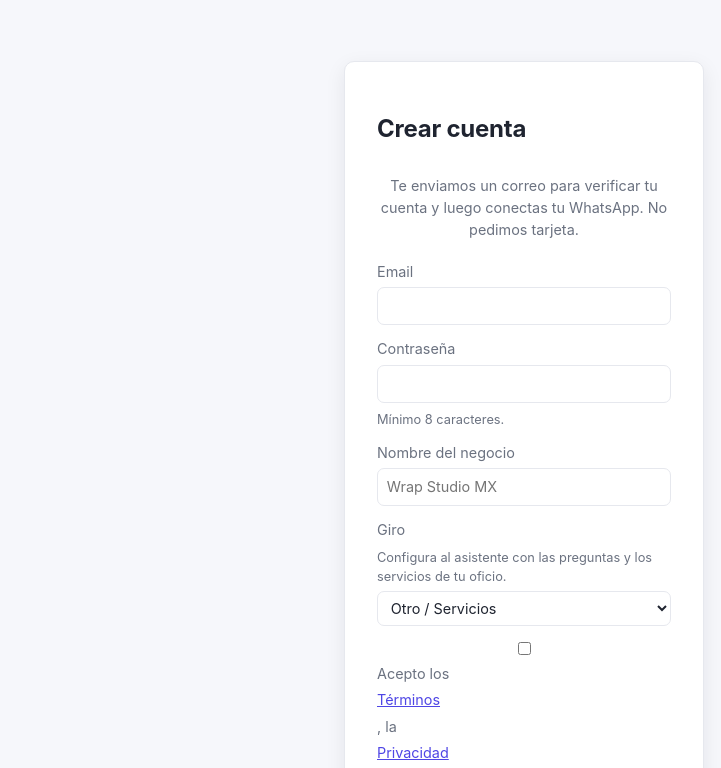
Test: submit válido muestra "revisa tu correo"
In the field labelled "Email": (524, 306) x1=377 y1=287 x2=671 y2=325, type "a@b.com"
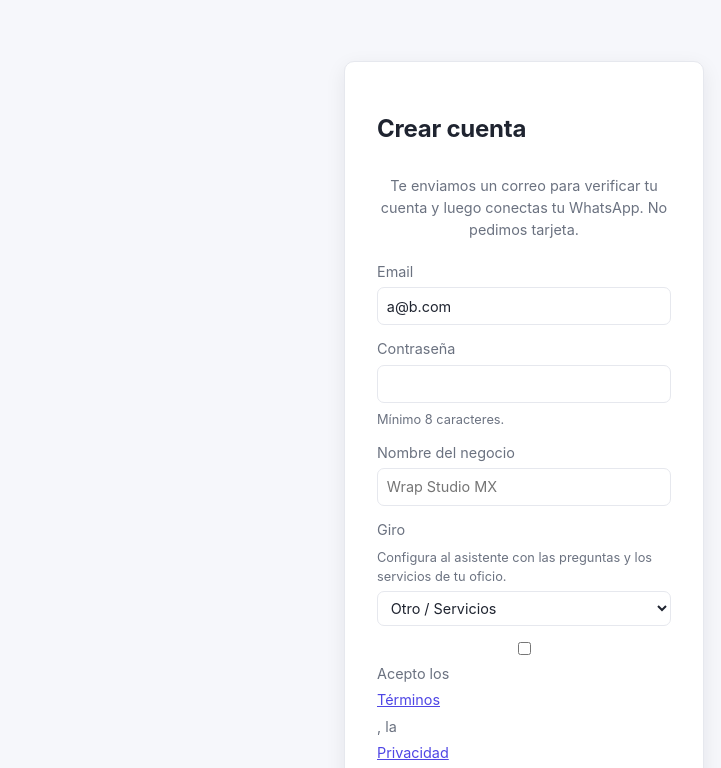
In the password field labelled "Contraseña Mínimo 8 caracteres.": (524, 384) x1=377 y1=365 x2=671 y2=403, type "pw1234567890"
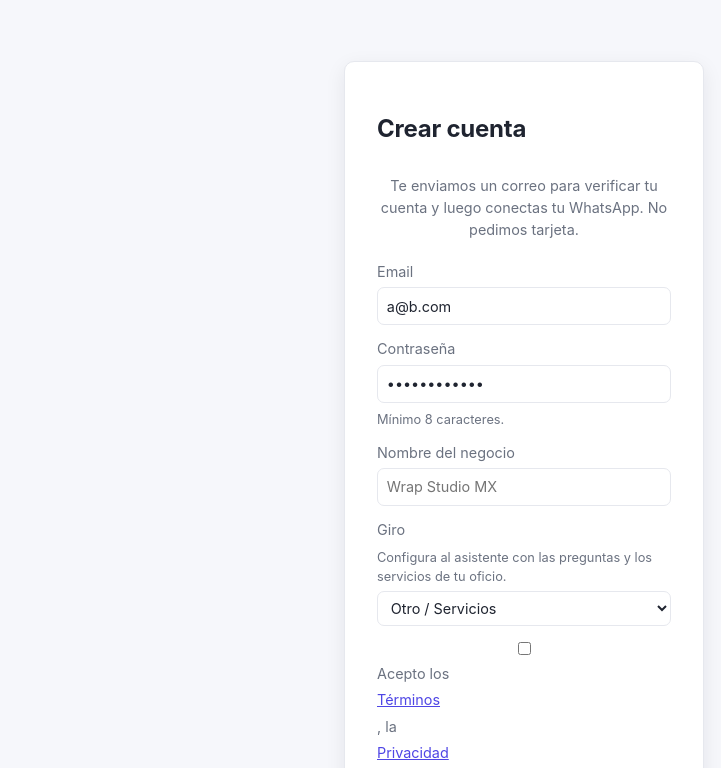
In the field labelled "Nombre del negocio": (524, 487) x1=377 y1=468 x2=671 y2=506, type "Mi Negocio"
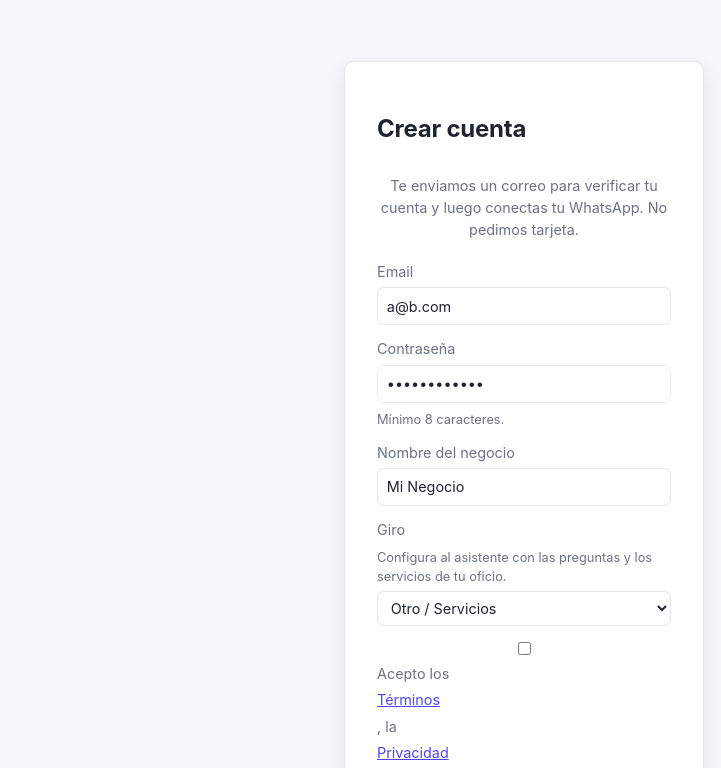
Click the checkbox labelled "Acepto los Términos , la Privacidad y el DPA .": (524, 648) x1=381 y1=642 x2=668 y2=655
(page scrolled)
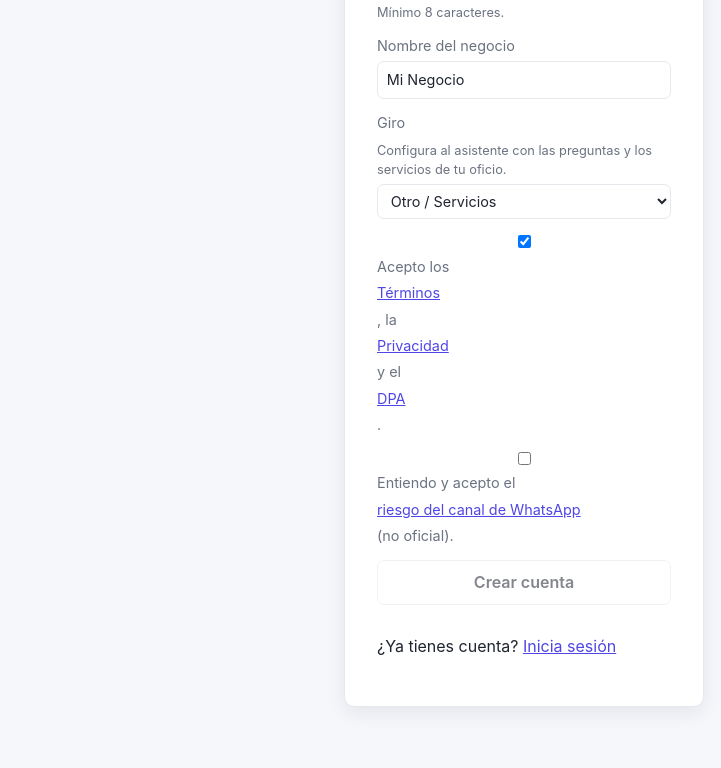
Click the checkbox labelled "riesgo del canal": (524, 458) x1=381 y1=452 x2=668 y2=465
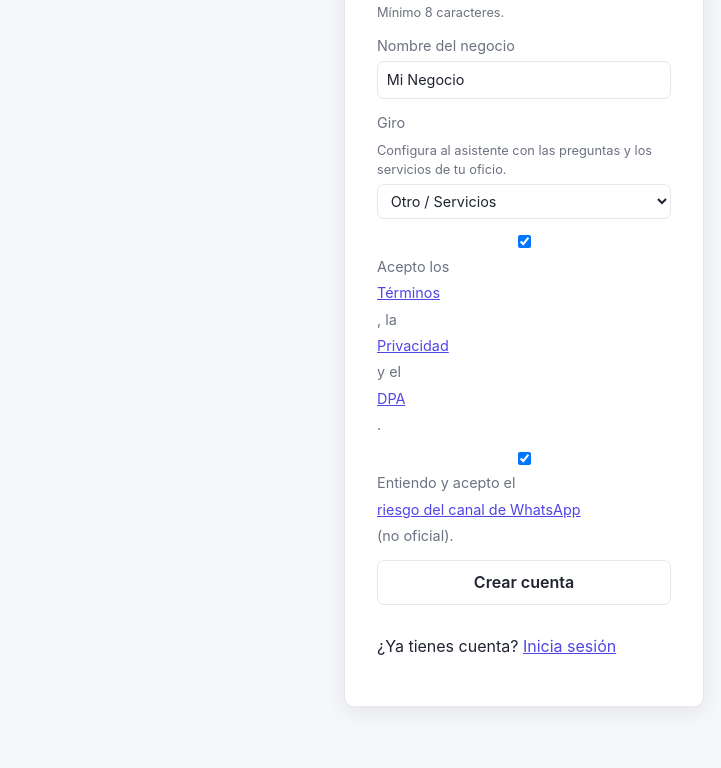
Click the button "Crear cuenta": (524, 582) x1=377 y1=560 x2=671 y2=605
(page scrolled)
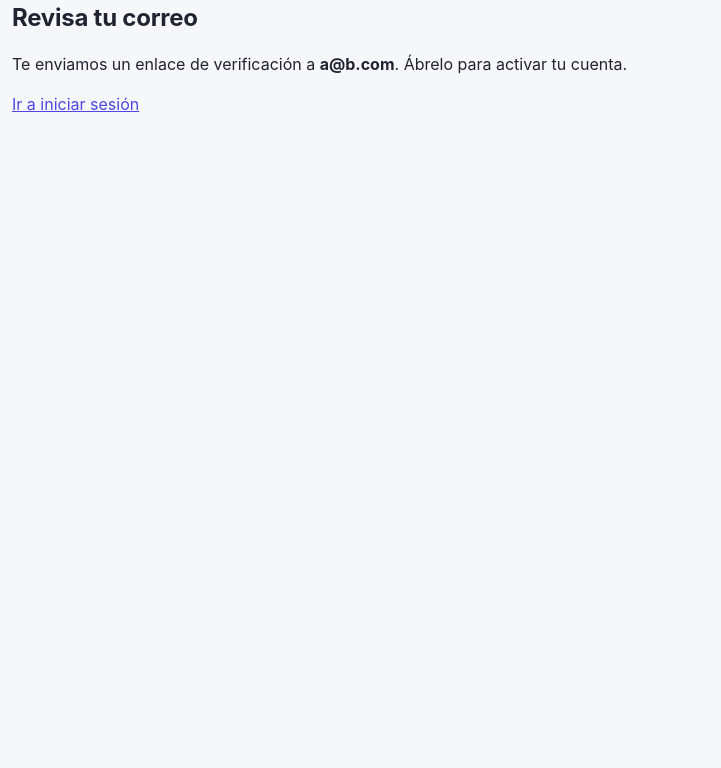
Now the heading "Revisa tu correo" is shown, box x1=12 y1=3 x2=198 y2=32
